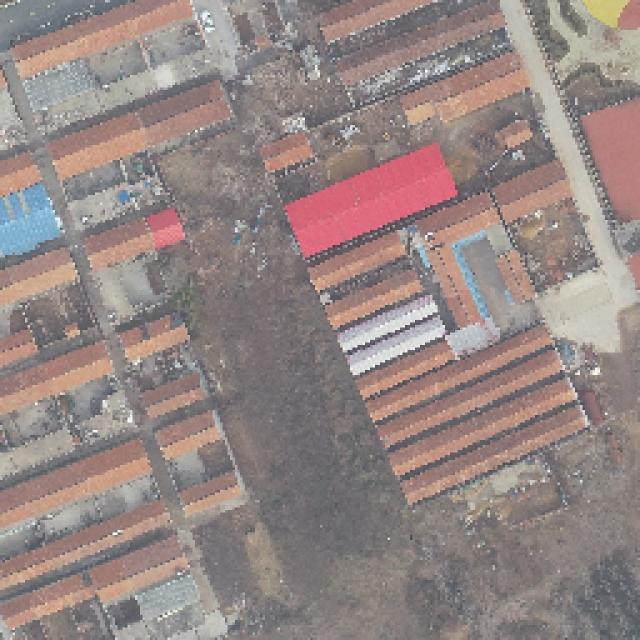Batiment: (390, 379, 575, 476), (49, 82, 229, 179), (369, 326, 550, 422), (403, 408, 584, 503), (381, 352, 557, 447), (1, 502, 166, 589), (11, 0, 190, 78), (339, 4, 503, 86), (2, 442, 151, 528), (402, 53, 528, 124), (1, 343, 112, 414), (91, 537, 186, 602), (309, 233, 406, 291), (356, 341, 452, 399), (416, 192, 500, 258), (341, 295, 438, 352), (348, 317, 442, 374), (327, 272, 419, 328), (2, 574, 93, 629), (492, 160, 571, 223), (319, 0, 436, 42), (1, 248, 79, 307), (84, 219, 154, 269), (156, 411, 221, 459), (122, 315, 188, 362), (141, 372, 206, 417), (183, 472, 241, 516), (259, 131, 312, 172), (0, 152, 40, 197), (145, 208, 185, 248), (0, 330, 38, 367), (515, 379, 572, 402), (521, 350, 559, 369), (1, 69, 8, 89)
